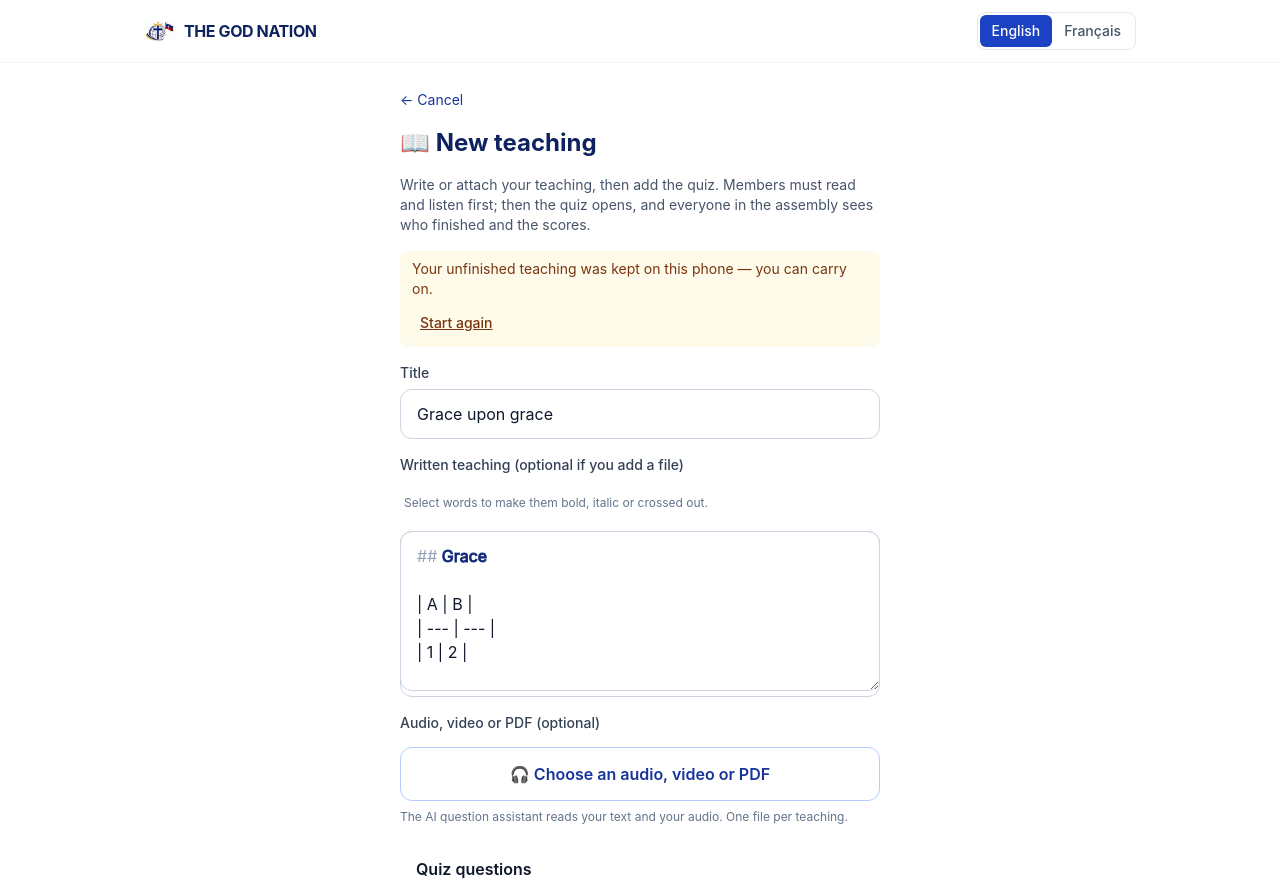
Test: An unfinished teaching is kept › is still there after leaving the screen and coming back, until "Start again" is pressed
This screenshot has width=1280, height=894.
Earlier steps of the test are not shown.
expect the message with test id "teaching-draft-note" shows "kept on this phone": met, box [412, 260, 847, 297]
expect the field labelled "Title" holds "Grace upon grace": met, box [400, 389, 880, 439]
Click the button "Start again": (456, 323) [412, 307, 500, 339]
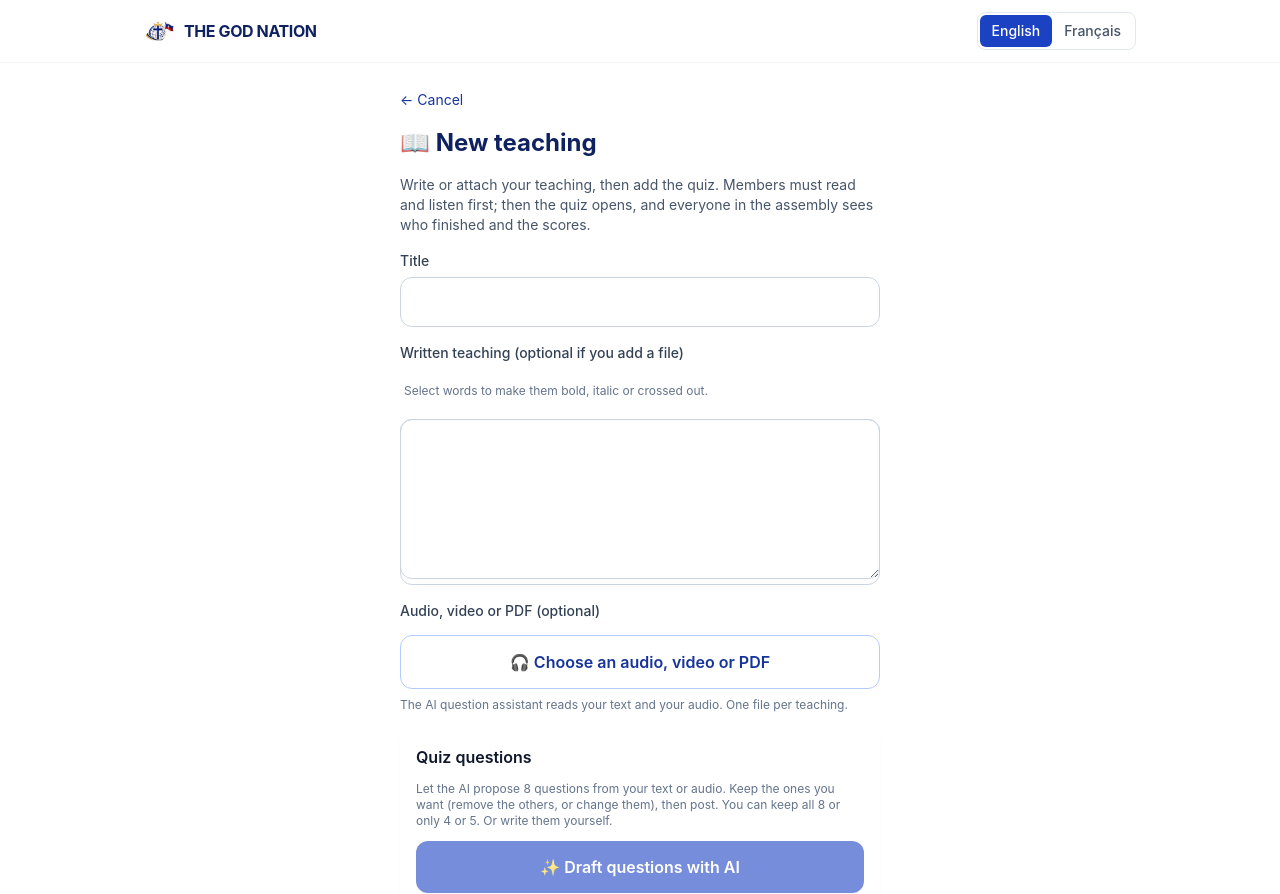
expect the field labelled "Title" is empty: met, box [400, 277, 880, 327]
